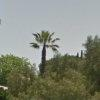Palm tree: (31, 19, 68, 75)
